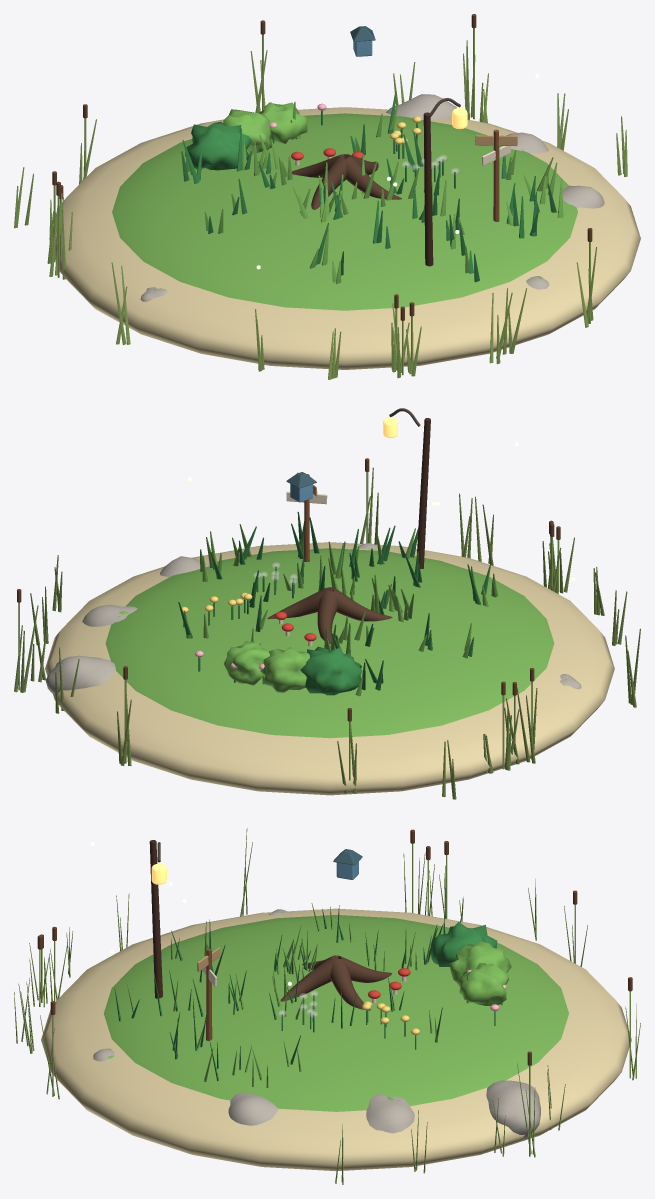
Rendered from islet_02.glb.
3 views of the same model, one above another, from view 1: azimuth 30°, elevation 25°; view 2: azimuth 150°, elevation 25°; view 3: azimuth 270°, elevation 25° (orthographic). The views are drawn at different scales.
Visible parts, largest first — view 1: islet_grass.002, islet_sand.002, bush.008, bush.006, lpost, bush.007, rock.016, rock.018, root.011, root.010, signpost, rock.013; view 2: islet_grass.002, islet_sand.002, bush.008, rock.016, bush.007, bush.006, lpost, rock.013, root.010, root.009, root.008, rock.018; view 3: islet_grass.002, islet_sand.002, rock.016, bush.006, rock.013, bush.008, bush.007, rock.018, lpost, root.008, root.011, root.009 (+1 smaller).
Boxes of the visible parts, bbox=[...] form: islet_grass.002: bbox=[112, 113, 577, 310]; islet_sand.002: bbox=[49, 107, 640, 369]; bush.008: bbox=[185, 121, 251, 170]; bush.006: bbox=[259, 102, 307, 143]; lpost: bbox=[423, 112, 433, 266]; bush.007: bbox=[223, 109, 271, 154]; rock.016: bbox=[386, 94, 456, 119]; rock.018: bbox=[562, 185, 604, 208]; root.011: bbox=[344, 156, 401, 199]; root.010: bbox=[311, 157, 347, 209]; signpost: bbox=[493, 129, 499, 221]; rock.013: bbox=[506, 132, 548, 152]; islet_grass.002: bbox=[105, 548, 554, 738]; islet_sand.002: bbox=[45, 542, 614, 795]; bush.008: bbox=[300, 646, 362, 695]; rock.016: bbox=[45, 655, 115, 694]; bush.007: bbox=[260, 647, 309, 692]; bush.006: bbox=[223, 641, 270, 685]; lpost: bbox=[416, 418, 430, 568]; rock.013: bbox=[82, 604, 137, 626]; root.010: bbox=[333, 588, 392, 621]; root.009: bbox=[317, 591, 337, 644]; root.008: bbox=[267, 588, 327, 619]; rock.018: bbox=[160, 556, 209, 576]; islet_grass.002: bbox=[103, 915, 568, 1111]; islet_sand.002: bbox=[41, 908, 631, 1171]; rock.016: bbox=[486, 1080, 540, 1138]; bush.006: bbox=[457, 963, 508, 1005]; rock.013: bbox=[366, 1094, 414, 1133]; bush.008: bbox=[431, 922, 497, 966]; bush.007: bbox=[449, 941, 511, 983]; rock.018: bbox=[228, 1092, 278, 1125]; lpost: bbox=[149, 840, 162, 998]; root.008: bbox=[330, 959, 370, 1010]; root.011: bbox=[280, 957, 334, 1001]; root.009: bbox=[338, 956, 392, 982].
Size of the model in its own units: 9.22 by 3.84 by 8.91.
